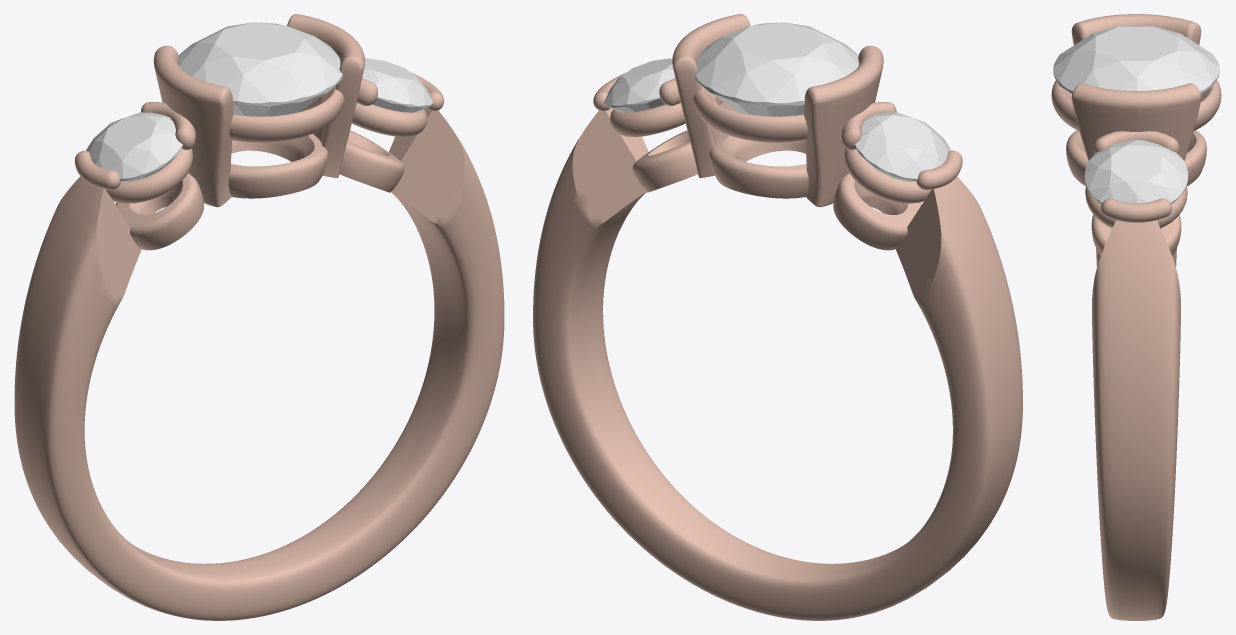
File: diamond-round-rosegold-halfmoonbezel-straighttaperedband-2stone.glb
The picture shows the model from 3 angles, left to right: view 1: azimuth 30°, elevation 25°; view 2: azimuth 150°, elevation 25°; view 3: azimuth 270°, elevation 25°; orthographic projection. The views are drawn at different scales.
Parts seen in each view (by area): view 1: metal, stone, side, side.001; view 2: metal, stone, side, side.001; view 3: metal, stone, side.001.
Boxes of the visible parts, x1=… form: metal: x1=14, y1=14, x2=504, y2=620; stone: x1=178, y1=22, x2=342, y2=116; side: x1=86, y1=112, x2=182, y2=181; side.001: x1=362, y1=58, x2=433, y2=112; metal: x1=533, y1=14, x2=1022, y2=620; stone: x1=694, y1=22, x2=858, y2=116; side: x1=854, y1=112, x2=951, y2=181; side.001: x1=603, y1=58, x2=675, y2=112; metal: x1=1051, y1=14, x2=1221, y2=620; stone: x1=1053, y1=25, x2=1219, y2=94; side.001: x1=1084, y1=139, x2=1188, y2=203.
Size of the model in its own units: 20.1 by 23.61 by 6.58.
